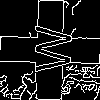W: (25, 25, 72, 73)
